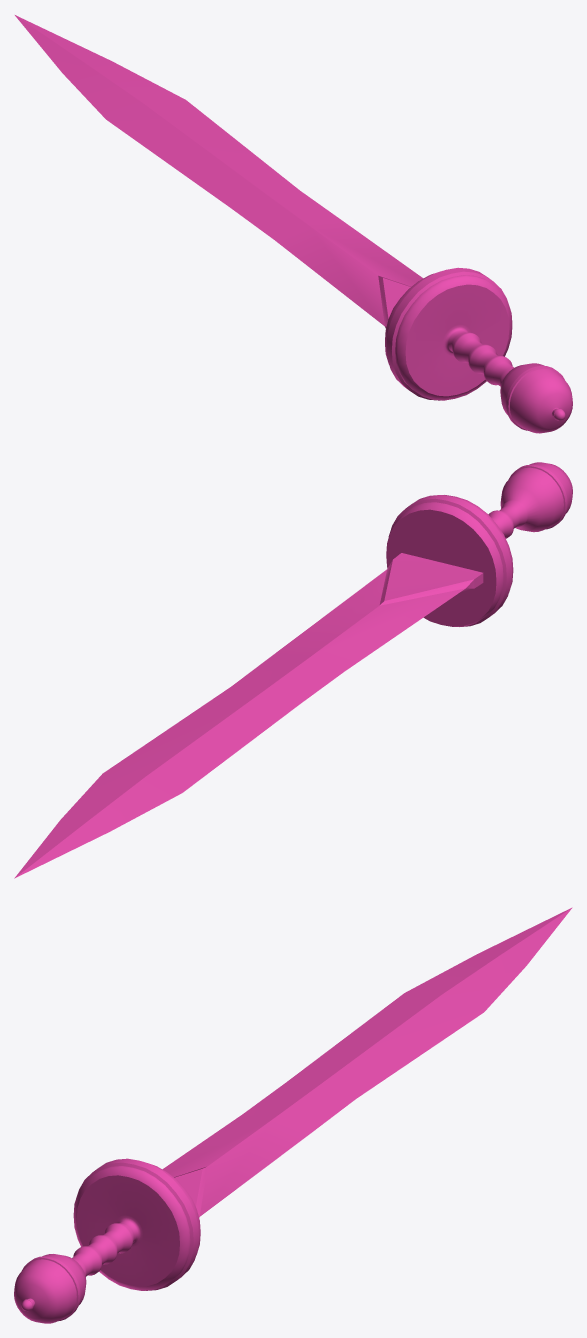
File: gladius_join.fbx
3 views of the same model, one above another, from view 1: azimuth 30°, elevation 25°; view 2: azimuth 150°, elevation 25°; view 3: azimuth 330°, elevation 25° (orthographic).
Parts seen in each view (by area): view 1: Sword_finally; view 2: Sword_finally; view 3: Sword_finally.
Boxes of the visible parts, bbox=[...] form: Sword_finally: bbox=[15, 15, 572, 433]; Sword_finally: bbox=[14, 462, 572, 878]; Sword_finally: bbox=[14, 907, 572, 1323].
Bounding box in the file's own units: 9.59 × 9.59 × 76.51.
